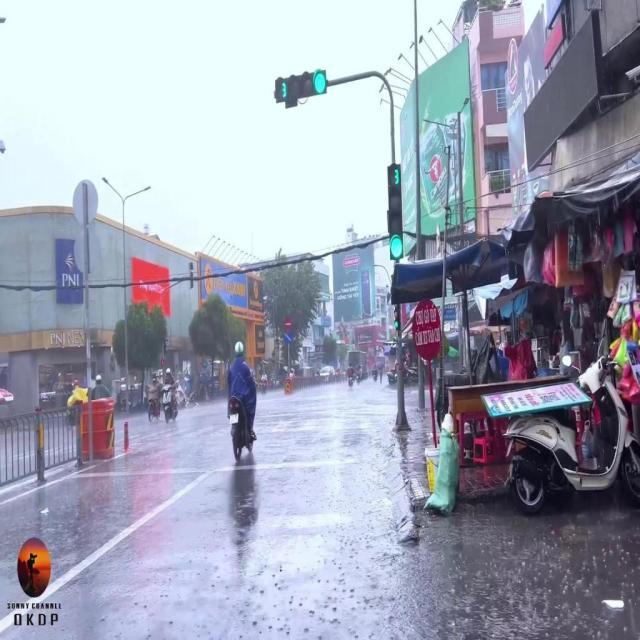cam_xe_di_nguoc_chieu: (285, 317, 292, 330)
huong_phai_di_vuot_chuong_ngai_vat_phai: (285, 332, 292, 344)
